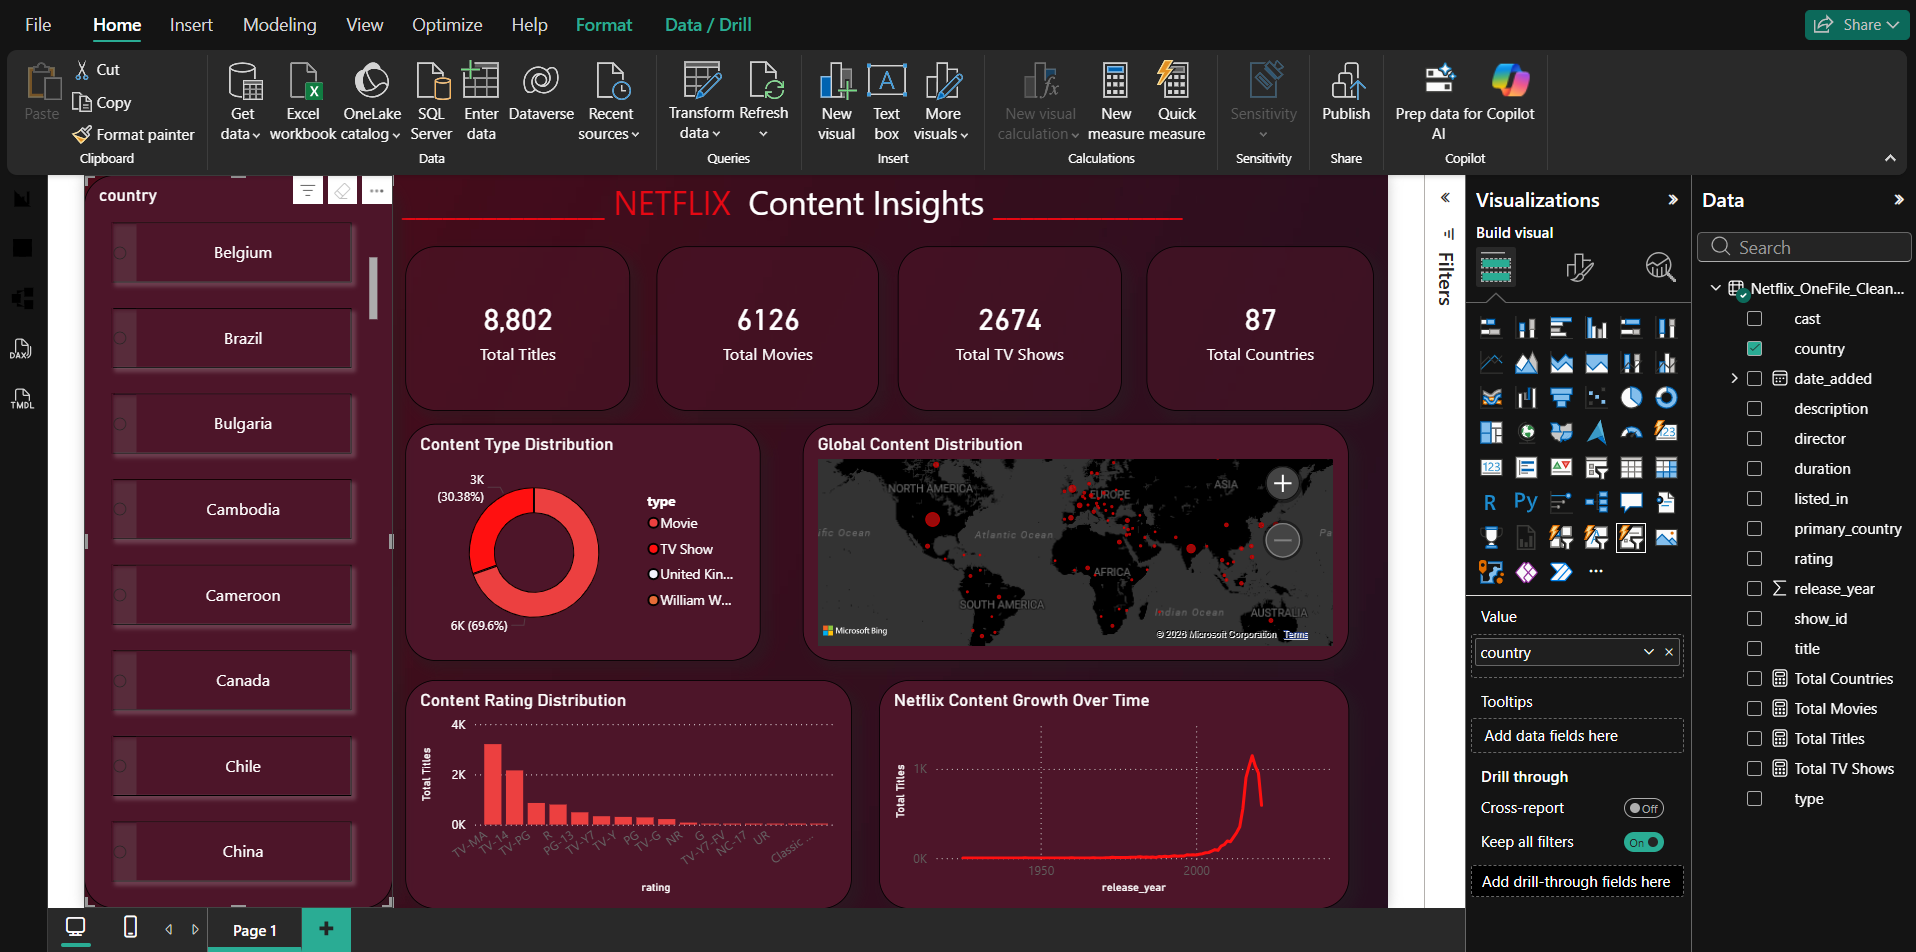

This screenshot's page, from the dashboard's own definition file:
{"tool":"powerbi","page":{"name":"Page 1","canvas":[1280,720],"ordinal":0},"visuals":[{"type":"textbox","box":[0,0,1279.8,63.8],"z":0},{"type":"card","fields":{"Values":["Netflix_OneFile_Cleaned_Final.Total Titles"]},"box":[315.3,69.9,220.9,162],"z":1000},{"type":"card","fields":{"Values":["Netflix_OneFile_Cleaned_Final.Total Movies"]},"box":[562,69.9,218.4,162],"z":2000},{"type":"card","fields":{"Values":["Netflix_OneFile_Cleaned_Final.Total TV Shows"]},"box":[798.8,69.9,219.6,162],"z":3000},{"type":"card","fields":{"Values":["Netflix_OneFile_Cleaned_Final.Total Countries"]},"box":[1043,69.9,223.3,162],"z":4000},{"type":"donutChart","title":"Content Type Distribution","fields":{"Y":["Netflix_OneFile_Cleaned_Final.Total Titles"],"Category":["Netflix_OneFile_Cleaned_Final.type"]},"box":[315.3,244.2,348.5,233.1],"z":5000},{"type":"lineChart","title":"Netflix Content Growth Over Time","fields":{"Category":["Netflix_OneFile_Cleaned_Final.release_year"],"Y":["Netflix_OneFile_Cleaned_Final.Total Titles"]},"box":[780.4,495.7,461.4,224.5],"z":6000},{"type":"clusteredColumnChart","title":"Content Rating Distribution","fields":{"Category":["Netflix_OneFile_Cleaned_Final.rating"],"Y":["Netflix_OneFile_Cleaned_Final.Total Titles"]},"box":[315.3,495.7,438,224.5],"z":7000},{"type":"map","title":"Global Content Distribution","fields":{"Category":["Netflix_OneFile_Cleaned_Final.country"],"Size":["Netflix_OneFile_Cleaned_Final.Total Titles"]},"box":[705.5,244.2,536.2,233.1],"z":8000},{"type":"listSlicer","fields":{"Values":["Netflix_OneFile_Cleaned_Final.country"]},"box":[0,0,303.1,720.2],"z":9000}]}

Visuals, with their boxes on the page's 1280x720 design canvas (x1, y1, x2, y2). These are canvas units, not pixel positions in the 1916x952 screenshot, which may show the page scaled, cropped or inside an application window:
textbox: (0,0,1280,64)
card - Netflix_OneFile_Cleaned_Final.Total Titles: (315,70,536,232)
card - Netflix_OneFile_Cleaned_Final.Total Movies: (562,70,780,232)
card - Netflix_OneFile_Cleaned_Final.Total TV Shows: (799,70,1018,232)
card - Netflix_OneFile_Cleaned_Final.Total Countries: (1043,70,1266,232)
"Content Type Distribution" donutChart: (315,244,664,477)
"Netflix Content Growth Over Time" lineChart: (780,496,1242,720)
"Content Rating Distribution" clusteredColumnChart: (315,496,753,720)
"Global Content Distribution" map: (706,244,1242,477)
listSlicer - Netflix_OneFile_Cleaned_Final.country: (0,0,303,720)
